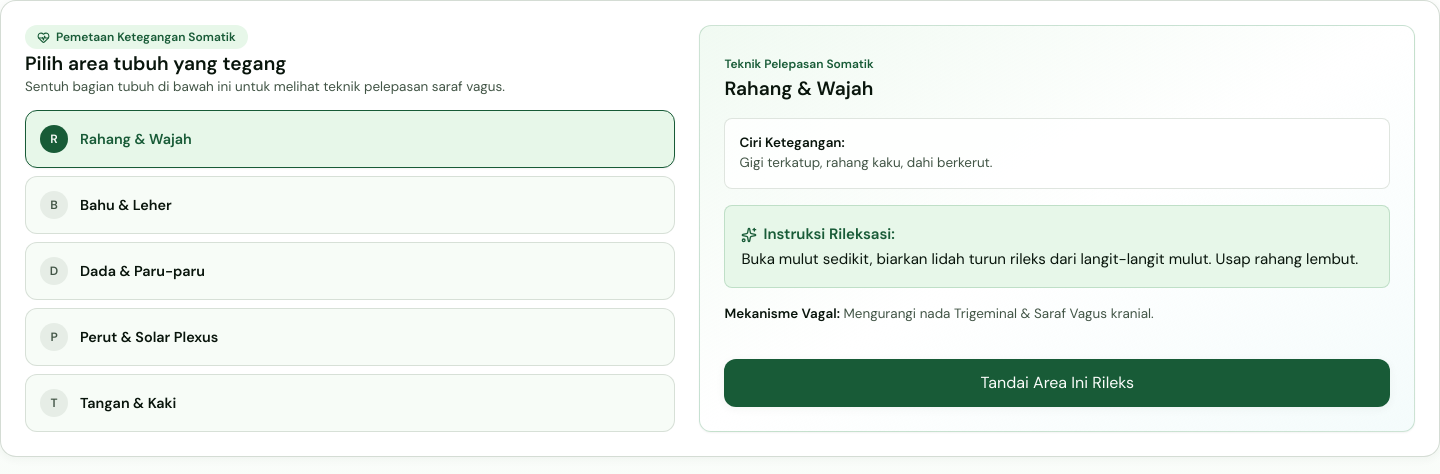
it: SomaticBodyScan › toggles and untoggles the relaxed marker for the selected area
The image size is (1440, 474).
Click the button "Tandai Area Ini Rileks" at coordinates (1057, 383), box x1=724 y1=359 x2=1390 y2=407
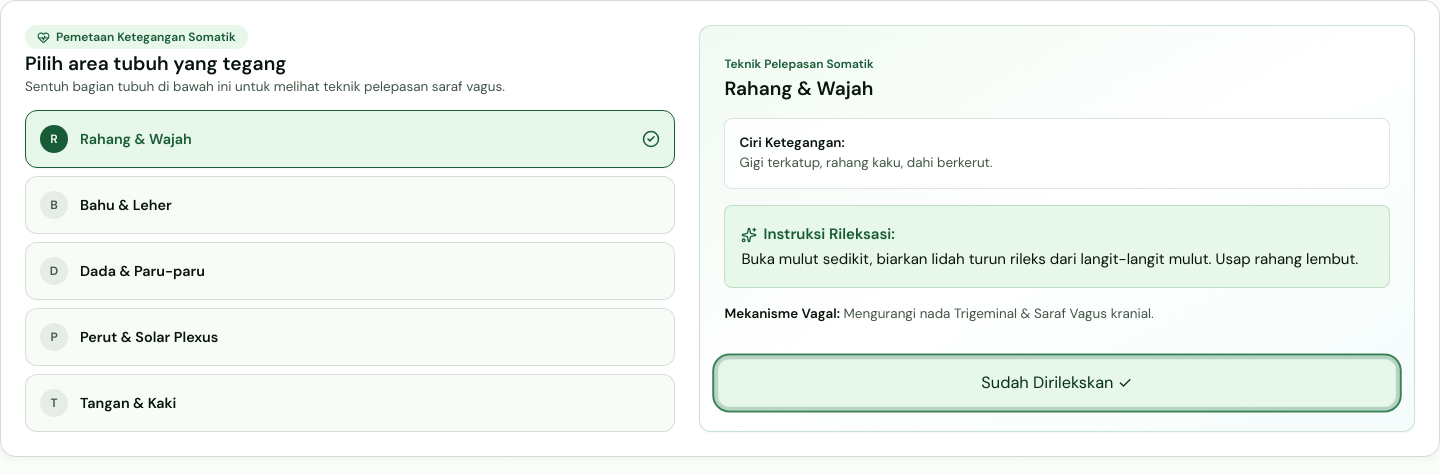
Check: the button "Sudah Dirilekskan ✓" is shown
Click the button "Sudah Dirilekskan ✓" at coordinates (1057, 383), box x1=718 y1=358 x2=1397 y2=408
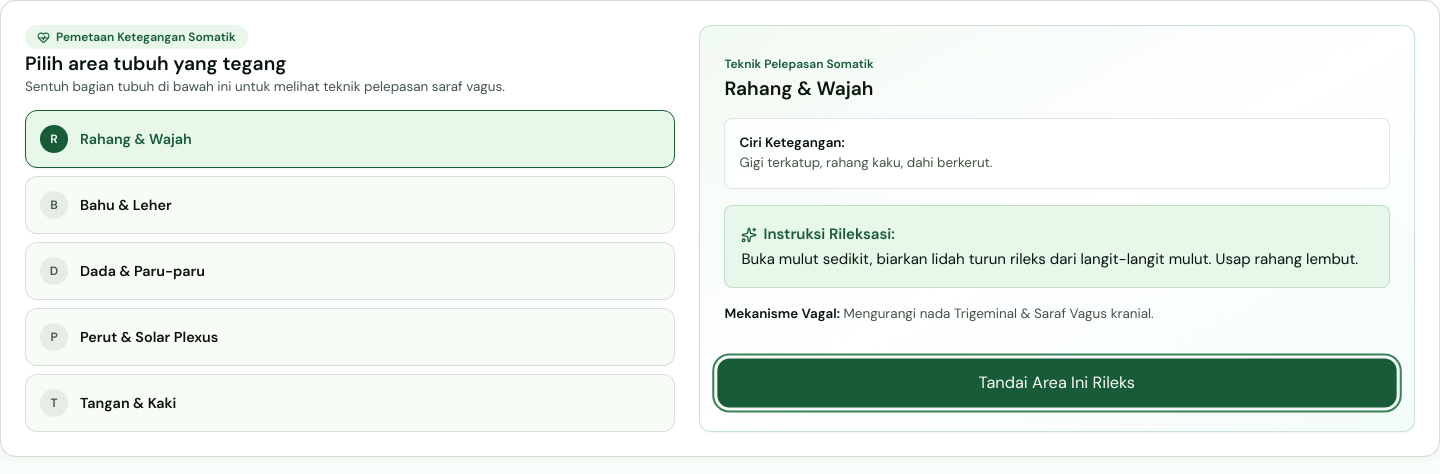
Check: the button "Tandai Area Ini Rileks" is shown, box x1=718 y1=358 x2=1397 y2=408
